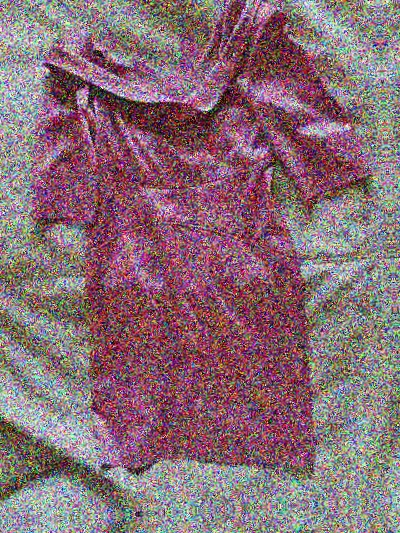Dress: (0, 0, 393, 492), (389, 0, 400, 471), (28, 529, 400, 533)
